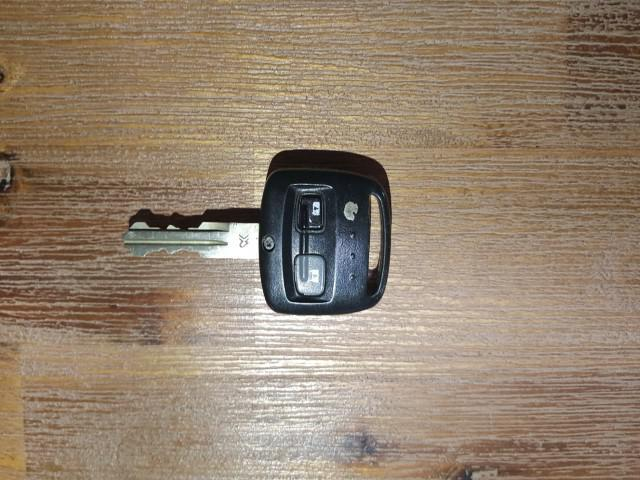key: (122, 167, 390, 390)
